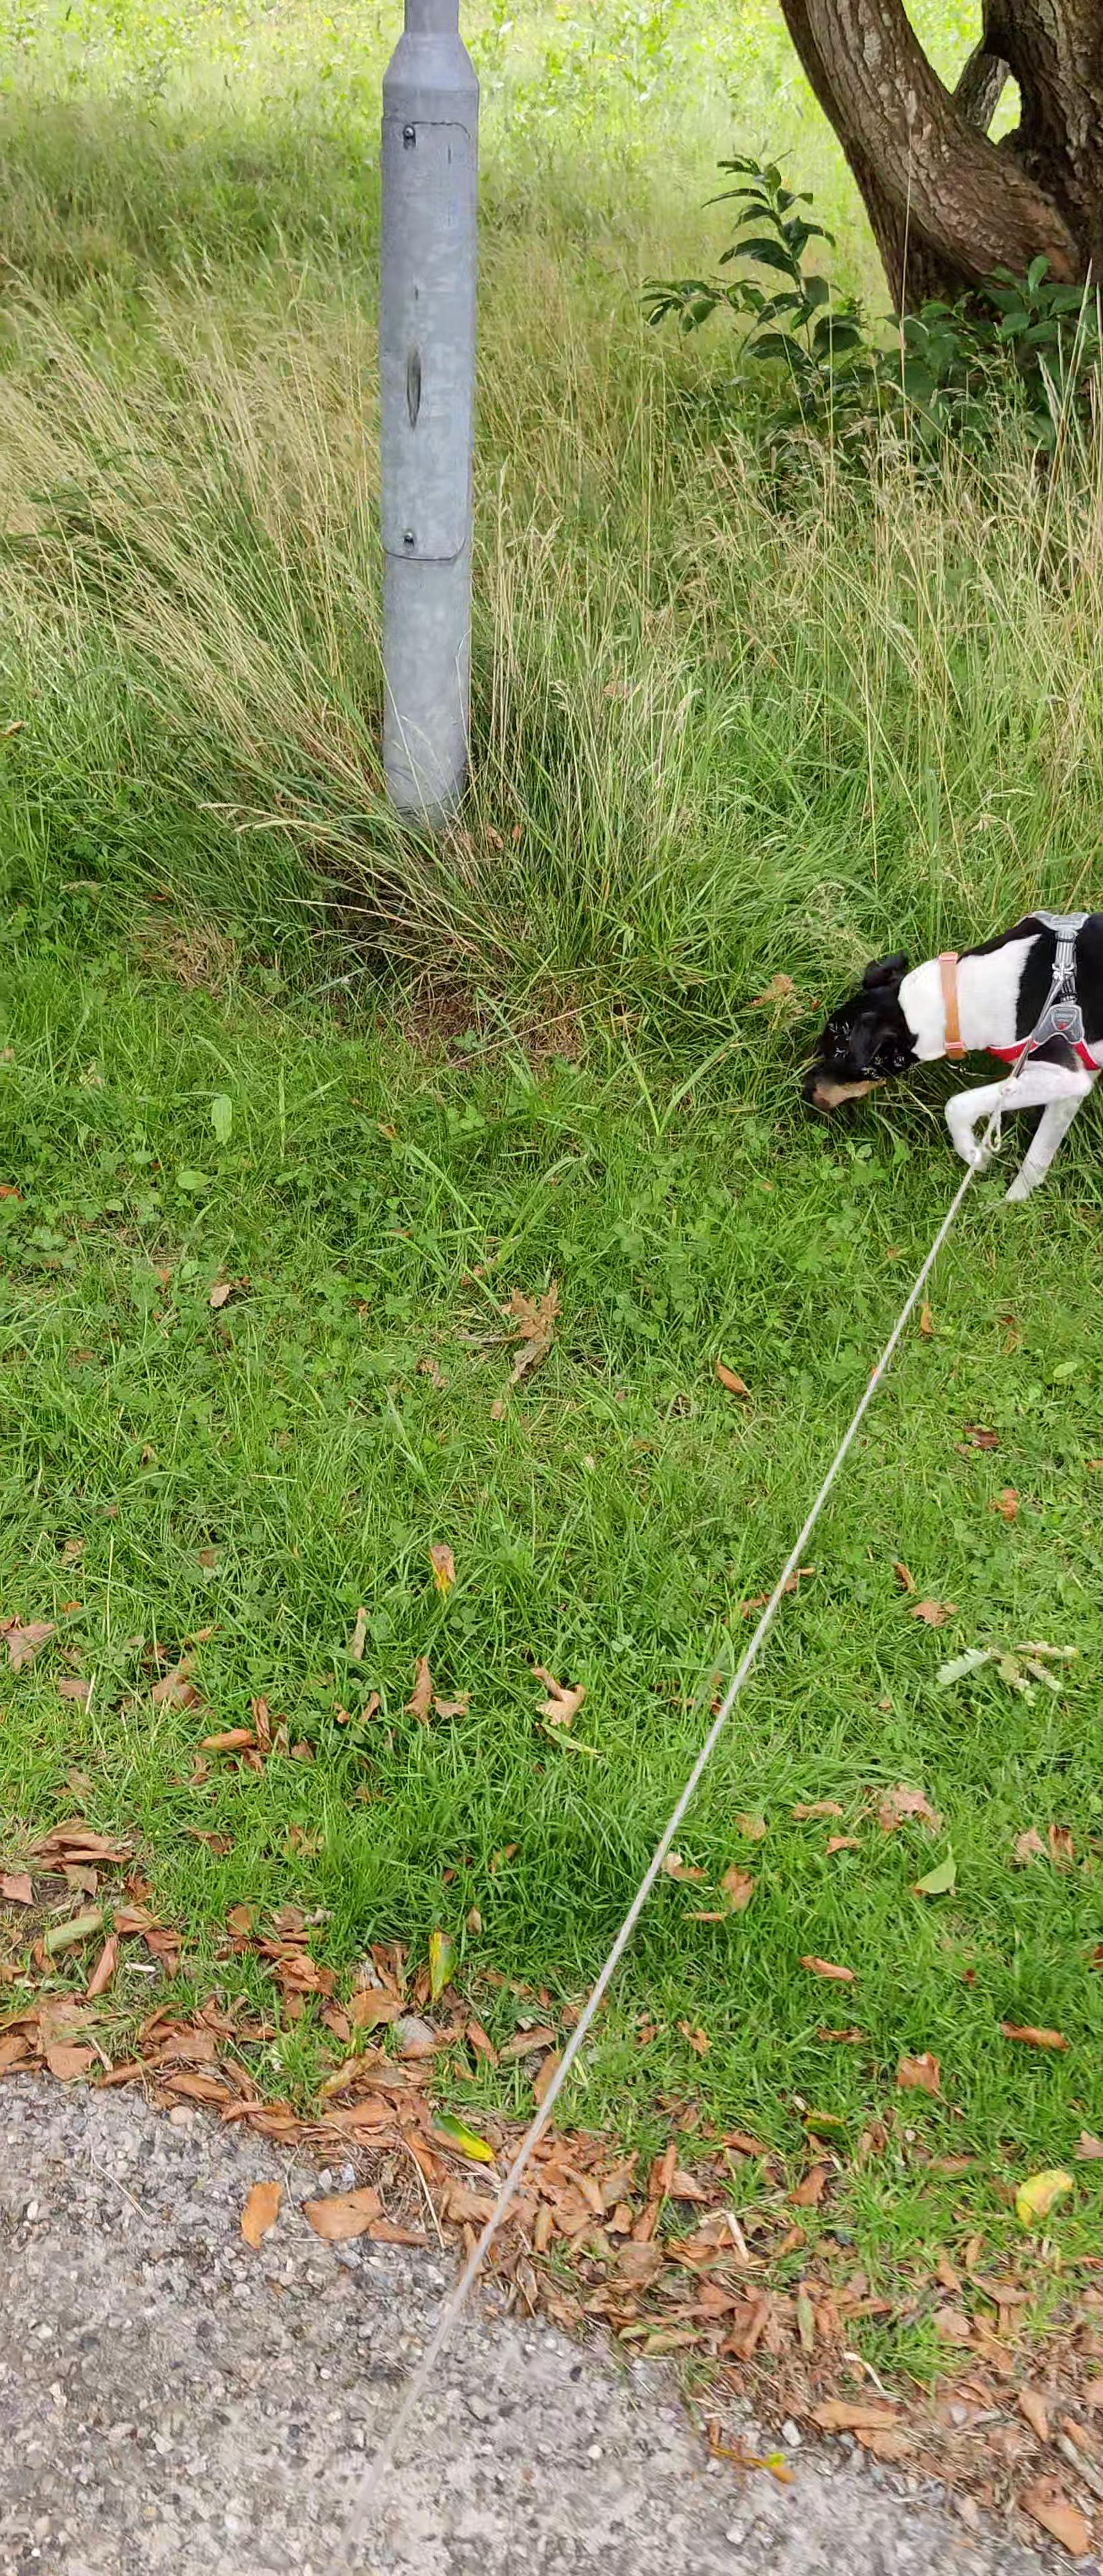Dog: (784, 892, 1103, 1204)
